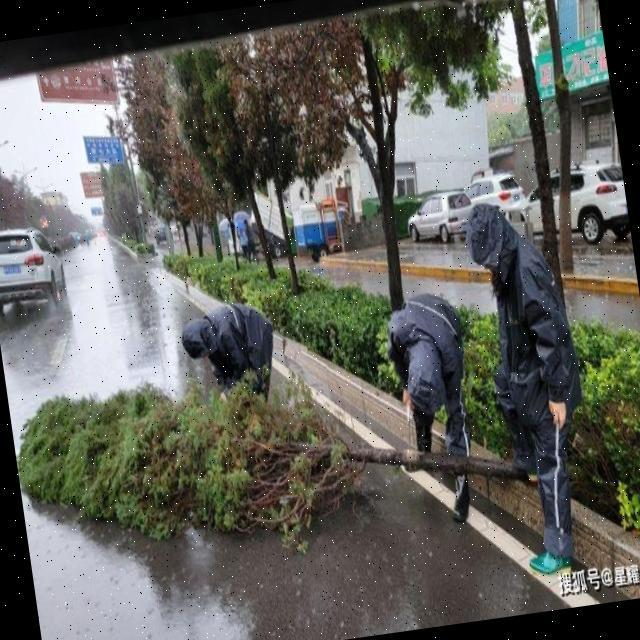fallen_object: (10, 325, 538, 594)
